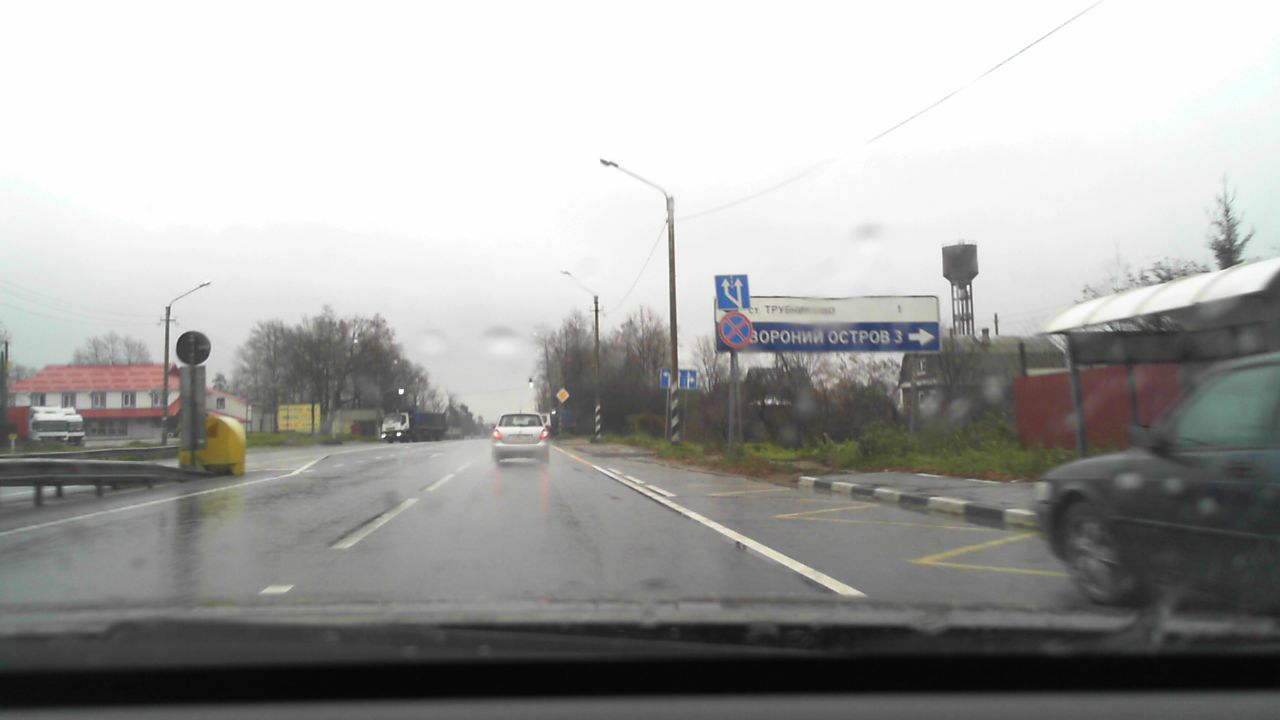No Parking: (718, 311, 752, 349)
